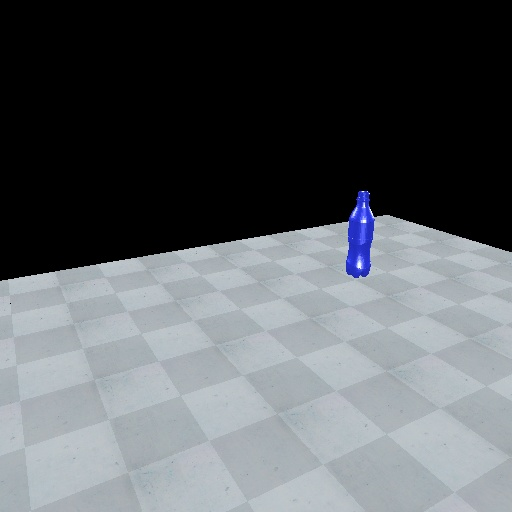bottle: (345, 189, 376, 280)
